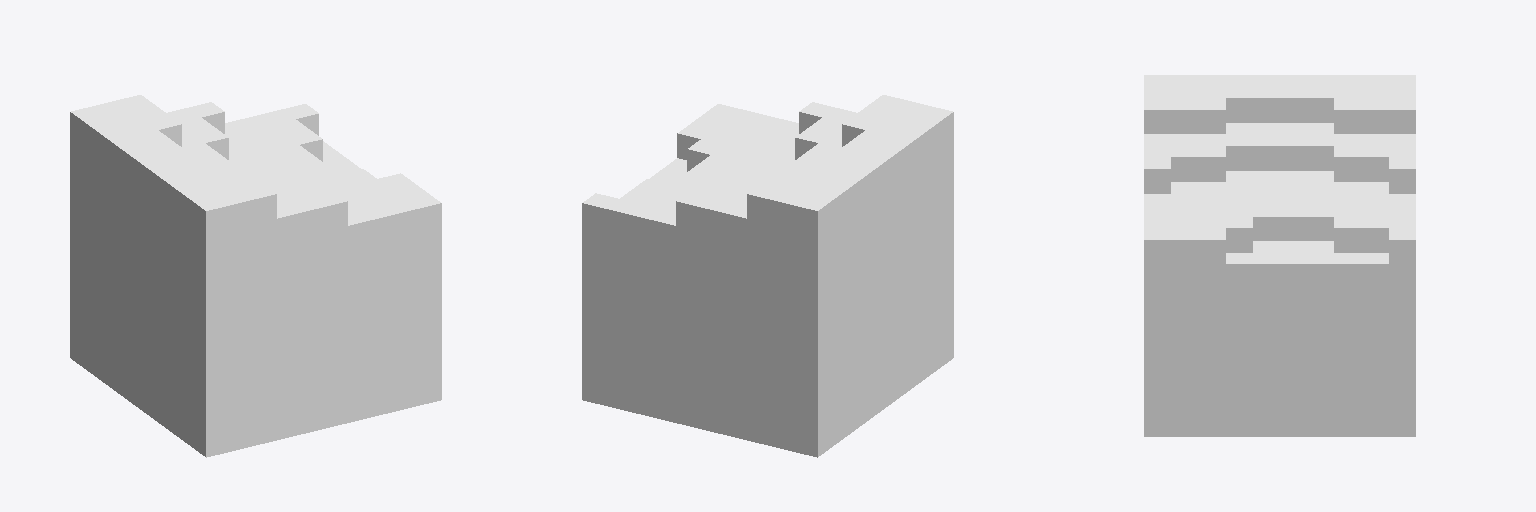
File: Lehm_Rand-03.obj
3 renders of one model, left to right at view 1: azimuth 30°, elevation 25°; view 2: azimuth 150°, elevation 25°; view 3: azimuth 270°, elevation 25°, orthographic.
Parts seen in each view (by area): view 1: object 1; view 2: object 1; view 3: object 1.
Part boxes in pixels (bbox=[...]): object 1: bbox=[70, 95, 441, 457]; object 1: bbox=[582, 95, 953, 457]; object 1: bbox=[1144, 75, 1415, 436].
Size of the model in its own units: 1 by 1 by 1.